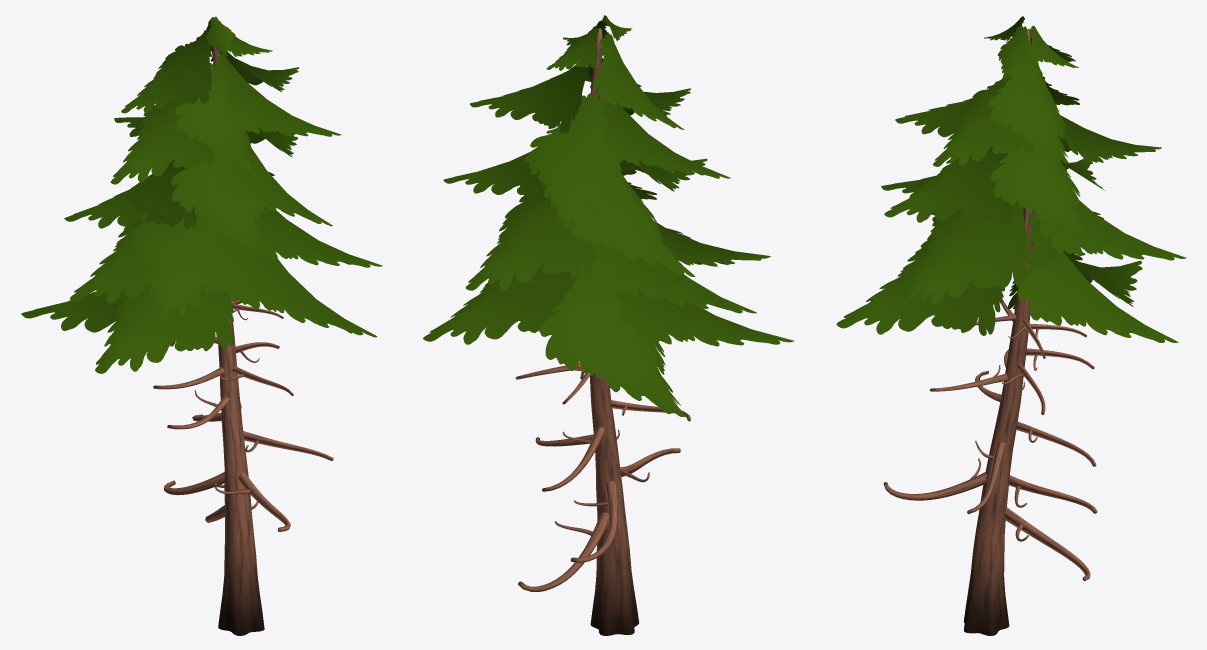
File: Pine_3.gltf
3 views of the same model, side by side, from view 1: azimuth 30°, elevation 25°; view 2: azimuth 150°, elevation 25°; view 3: azimuth 270°, elevation 25° (orthographic). The views are drawn at different scales.
Parts seen in each view (by area): view 1: Pine_3; view 2: Pine_3; view 3: Pine_3.
Part boxes in pixels (bbox=[...]): Pine_3: bbox=[21, 16, 382, 635]; Pine_3: bbox=[423, 15, 794, 635]; Pine_3: bbox=[836, 16, 1186, 635].
Size of the model in its own units: 3.61 by 7.39 by 4.
Materials: 2 (2 with a texture image).
